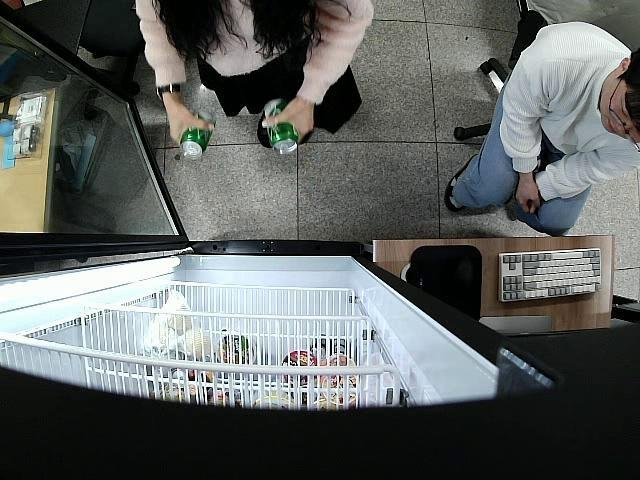12_chilsungCider: (264, 100, 299, 156), (180, 110, 216, 161)
